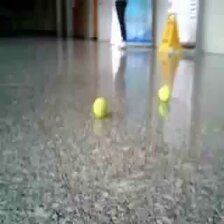tennis: (92, 97, 109, 119), (158, 85, 171, 102)
